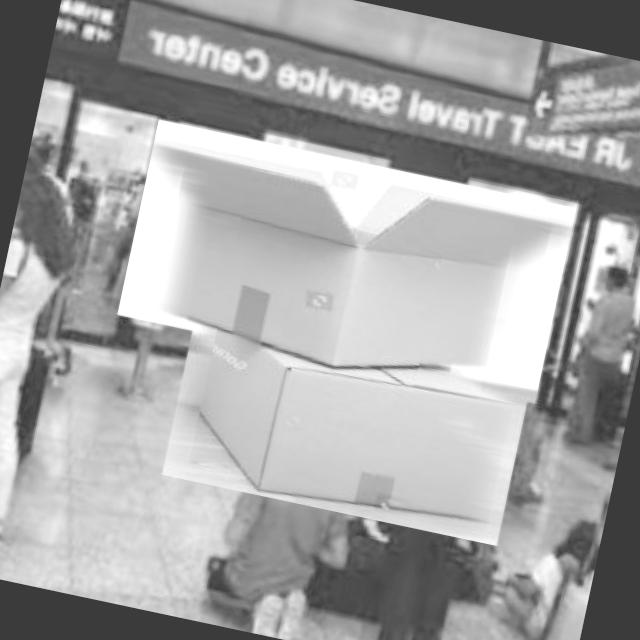box: (108, 114, 582, 409), (154, 299, 538, 550)
